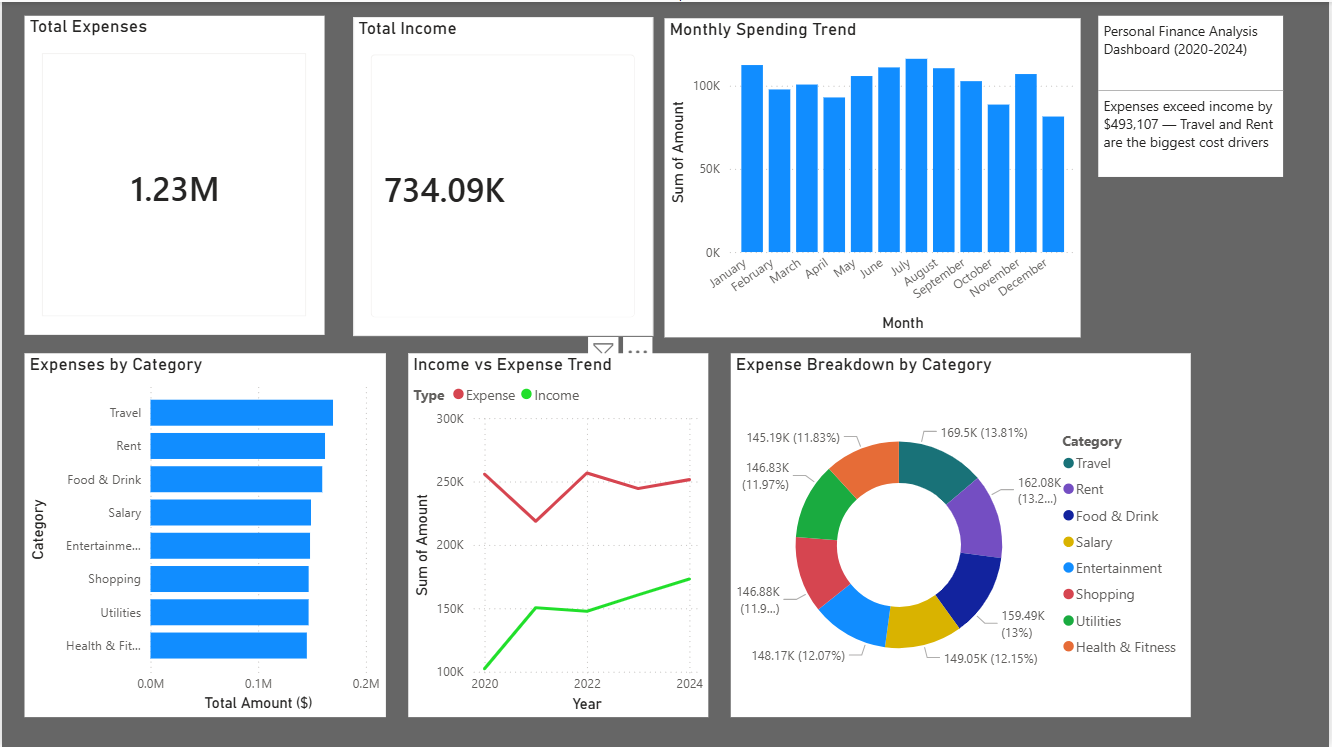

What the dashboard file says about the page in this screenshot:
{"tool":"powerbi","page":{"name":"Page 1","canvas":[1280,720],"ordinal":0},"visuals":[{"type":"cardVisual","title":"Total Expenses","fields":{"Data":["Sum(Personal_Finance_Dataset.Amount)"]},"box":[21.7,13.3,289.5,307.6],"z":0},{"type":"cardVisual","title":"Total Income","fields":{"Data":["Sum(Personal_Finance_Dataset.Amount)"]},"box":[339,14.5,289.5,307.6],"z":1},{"type":"clusteredBarChart","title":"Expenses by Category","fields":{"Category":["Personal_Finance_Dataset.Category"],"Y":["Sum(Personal_Finance_Dataset.Amount)"]},"box":[21.7,339,348.7,351.1],"z":2},{"type":"lineChart","title":"Income vs Expense Trend","fields":{"Y":["Sum(Personal_Finance_Dataset.Amount)"],"Category":["Personal_Finance_Dataset.Year"],"Series":["Personal_Finance_Dataset.Type"]},"box":[392.1,339,289.5,351.1],"z":3},{"type":"clusteredColumnChart","title":"Monthly Spending Trend","fields":{"Y":["Sum(Personal_Finance_Dataset.Amount)"],"Category":["Personal_Finance_Dataset.Date.Variation.Date Hierarchy.Month"]},"box":[639.4,15.7,401.7,307.6],"z":4},{"type":"donutChart","title":"Expense Breakdown by Category","fields":{"Category":["Personal_Finance_Dataset.Category"],"Y":["Sum(Personal_Finance_Dataset.Amount)"]},"box":[703.4,339,444,351.1],"z":5},{"type":"textbox","box":[1058,13.3,178.6,72.4],"z":6},{"type":"textbox","box":[1058,85.7,178.6,83.2],"z":7}]}

Visuals, with their boxes in screenshot pixels (x1, y1, x2, y2), scaled from the page's 1280x720 canvas onto the 1332x747 screenshot:
"Total Expenses" cardVisual: Rect(23, 14, 324, 333)
"Total Income" cardVisual: Rect(353, 15, 654, 334)
"Expenses by Category" clusteredBarChart: Rect(23, 352, 385, 716)
"Income vs Expense Trend" lineChart: Rect(408, 352, 709, 716)
"Monthly Spending Trend" clusteredColumnChart: Rect(665, 16, 1083, 335)
"Expense Breakdown by Category" donutChart: Rect(732, 352, 1194, 716)
textbox: Rect(1101, 14, 1287, 89)
textbox: Rect(1101, 89, 1287, 175)
